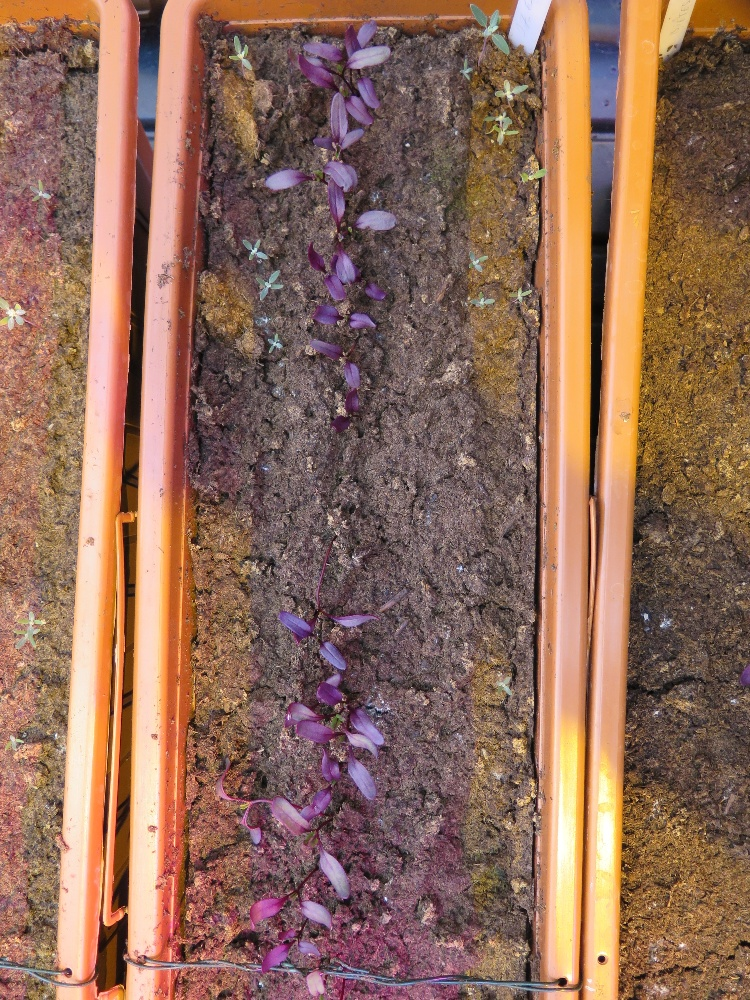crop: (252, 88, 369, 229), (237, 885, 352, 998), (212, 760, 372, 840), (274, 566, 385, 679), (298, 187, 391, 313), (280, 664, 398, 761), (295, 23, 383, 142), (298, 242, 390, 352), (275, 818, 369, 915), (290, 715, 383, 810), (293, 296, 391, 380), (302, 345, 385, 429)
weed: (466, 1, 525, 66), (14, 599, 49, 648), (234, 237, 280, 272), (493, 64, 528, 109), (512, 153, 547, 196), (1, 294, 41, 331), (26, 174, 63, 212), (464, 287, 496, 323), (509, 277, 542, 310), (488, 118, 525, 147), (255, 272, 287, 302), (461, 245, 496, 272), (491, 667, 517, 702), (263, 329, 293, 356), (450, 53, 477, 83)
